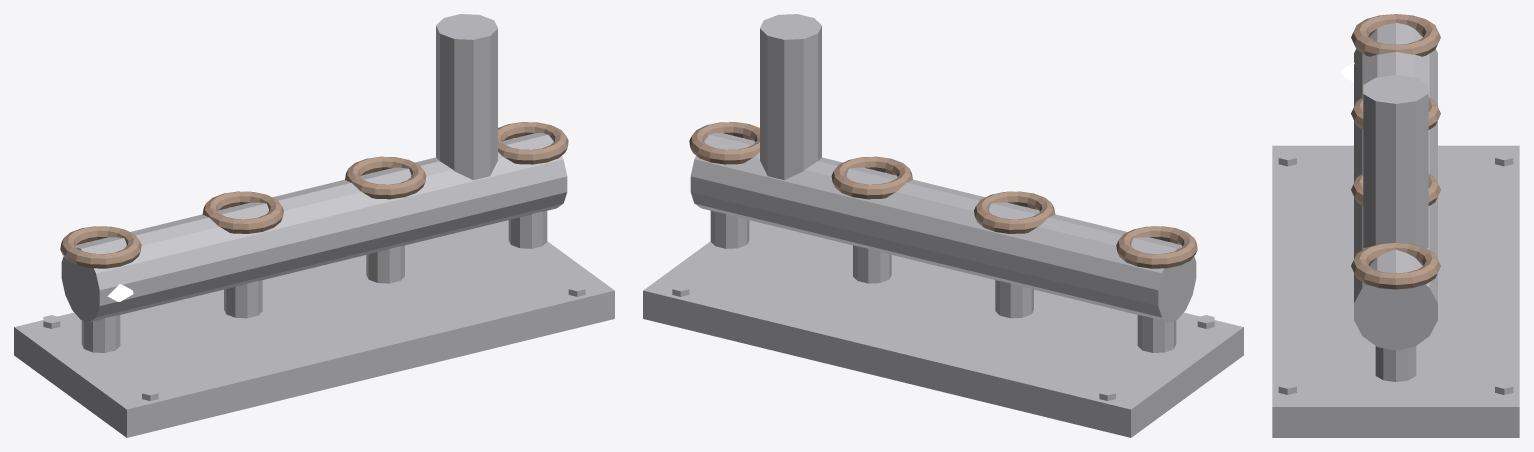
The model's file is pipeline_rare.glb.
3 views of the same model, side by side, from view 1: azimuth 30°, elevation 25°; view 2: azimuth 150°, elevation 25°; view 3: azimuth 270°, elevation 25° (orthographic). The views are drawn at different scales.
Visible parts, largest first — view 1: pipeline; view 2: pipeline; view 3: pipeline.
Boxes of the visible parts, <box> form: pipeline: <box>14,14,614,437</box>; pipeline: <box>643,14,1243,437</box>; pipeline: <box>1272,14,1519,437</box>.
Size of the model in its own units: 2.94 by 1.54 by 1.15.
